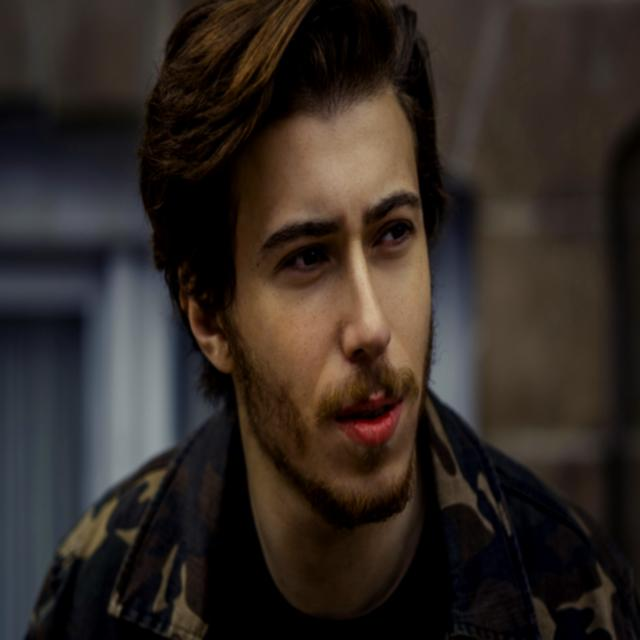piel: (173, 87, 436, 617)
